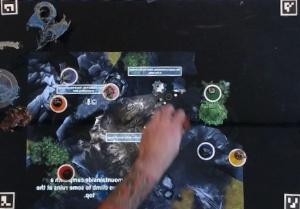green: (195, 140, 218, 162), (203, 83, 225, 103)
orange: (46, 92, 69, 113)
pink: (101, 81, 121, 99)
red: (54, 161, 75, 184)
violet: (59, 66, 78, 86)
yellow: (225, 147, 251, 167)
